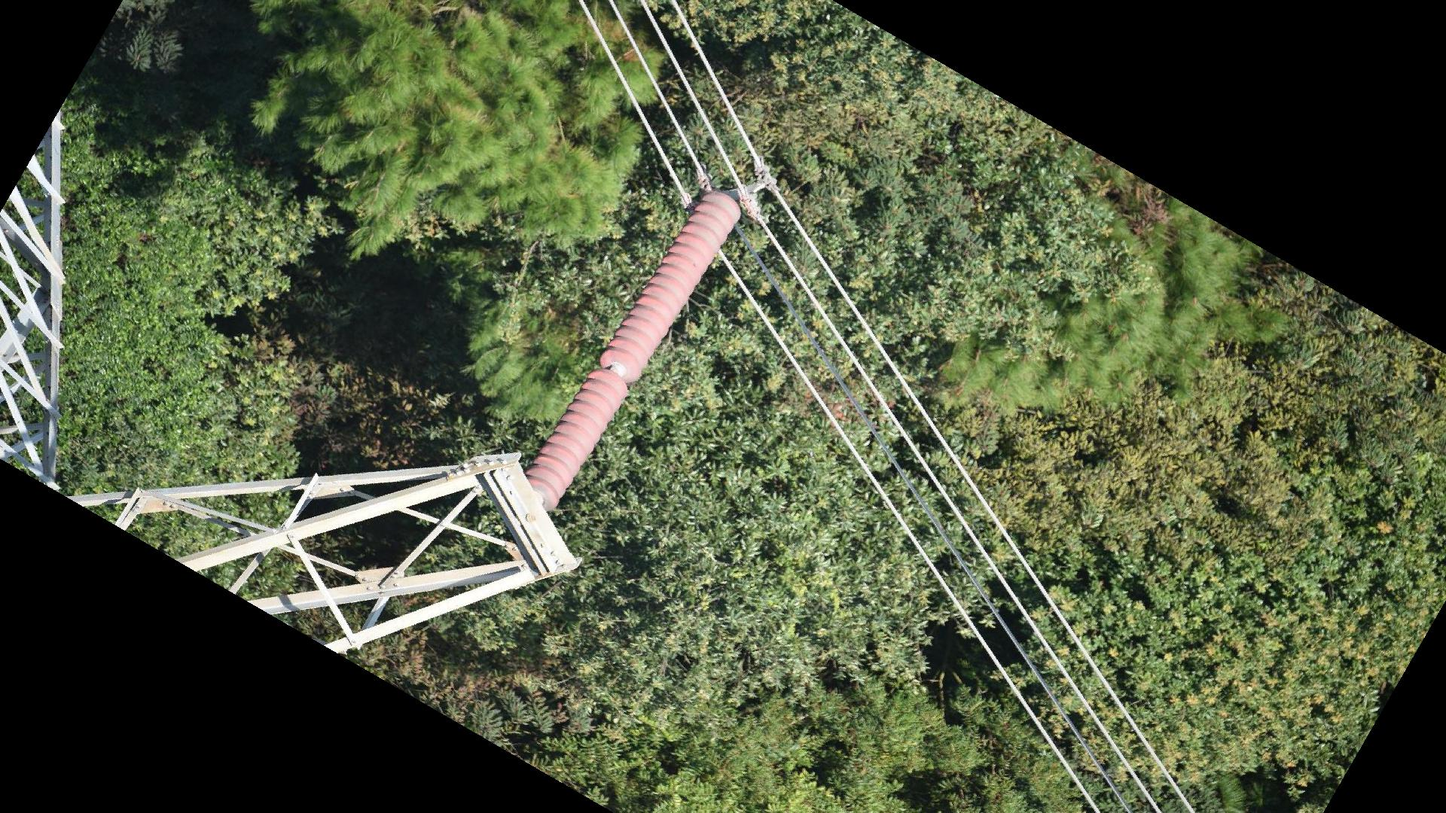insulator: (523, 187, 747, 507)
insulator_stringdrop: (585, 345, 645, 398)
